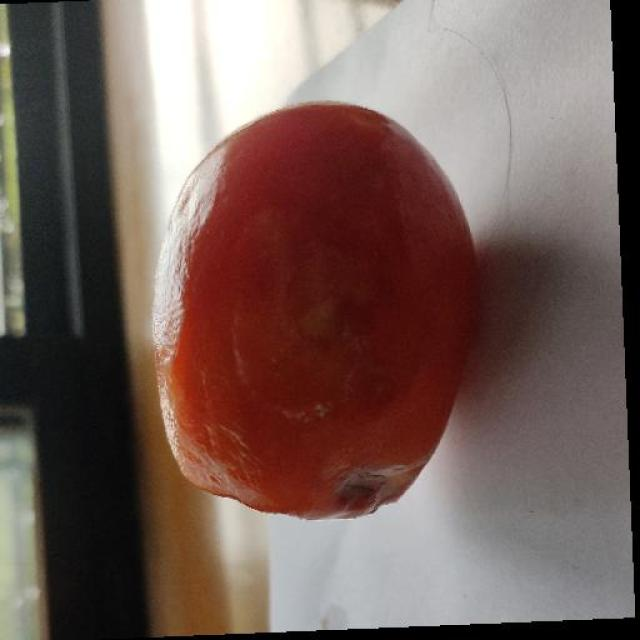Stale_tomato: (157, 111, 478, 528)
